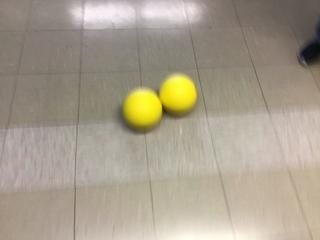power_cell: (120, 87, 164, 132), (156, 73, 199, 115)
